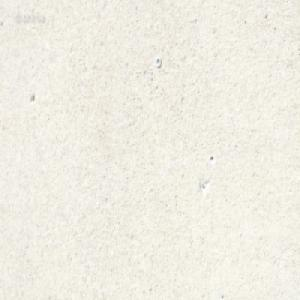Washer: (155, 57, 161, 68)
